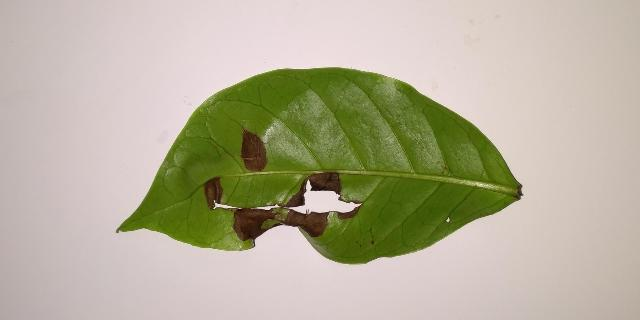rust: (204, 172, 361, 247), (242, 130, 266, 171)
